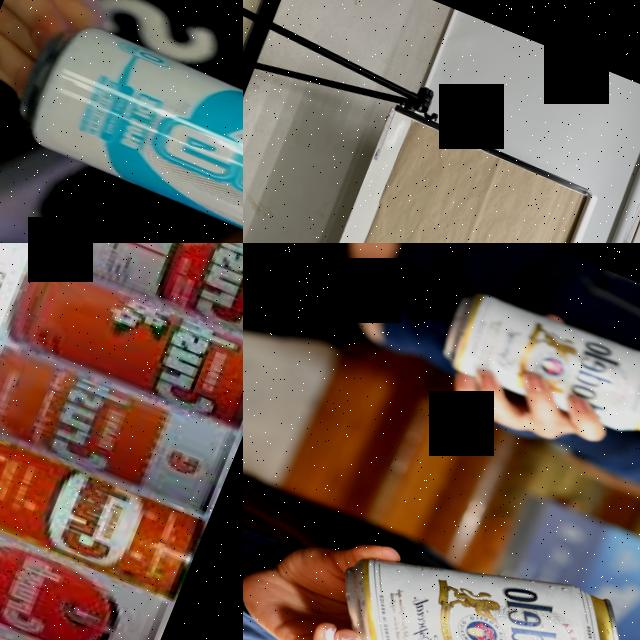can: (1, 8, 243, 243), (312, 501, 640, 640), (0, 336, 242, 521), (0, 255, 243, 433), (0, 422, 204, 599), (0, 501, 175, 640), (32, 243, 243, 353), (0, 591, 138, 640)
